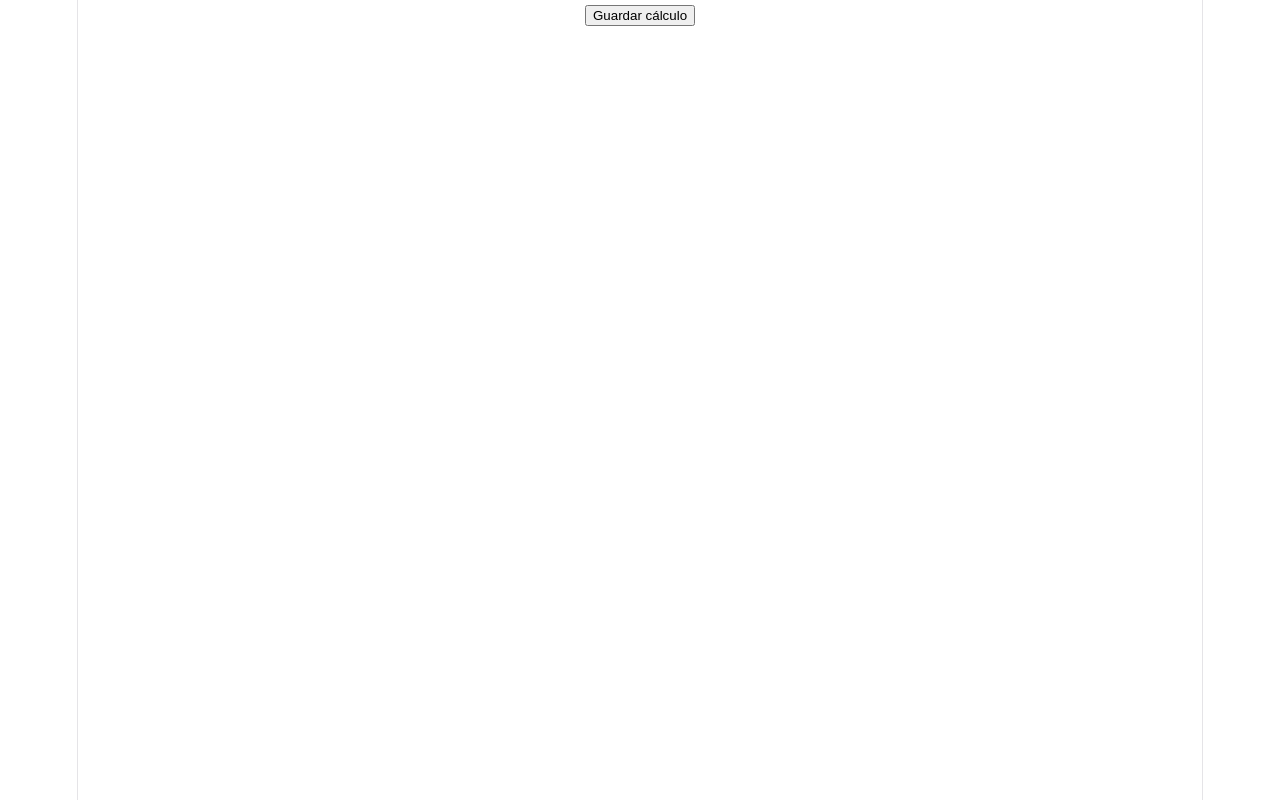
GuardarCalculo › muestra el error y no redirige si falla
This screenshot has width=1280, height=800.
What coordinates should you click on to do the following:
click the button "Guardar cálculo"
I would click on:
 (640, 16)
Its box is [585,5,695,26].
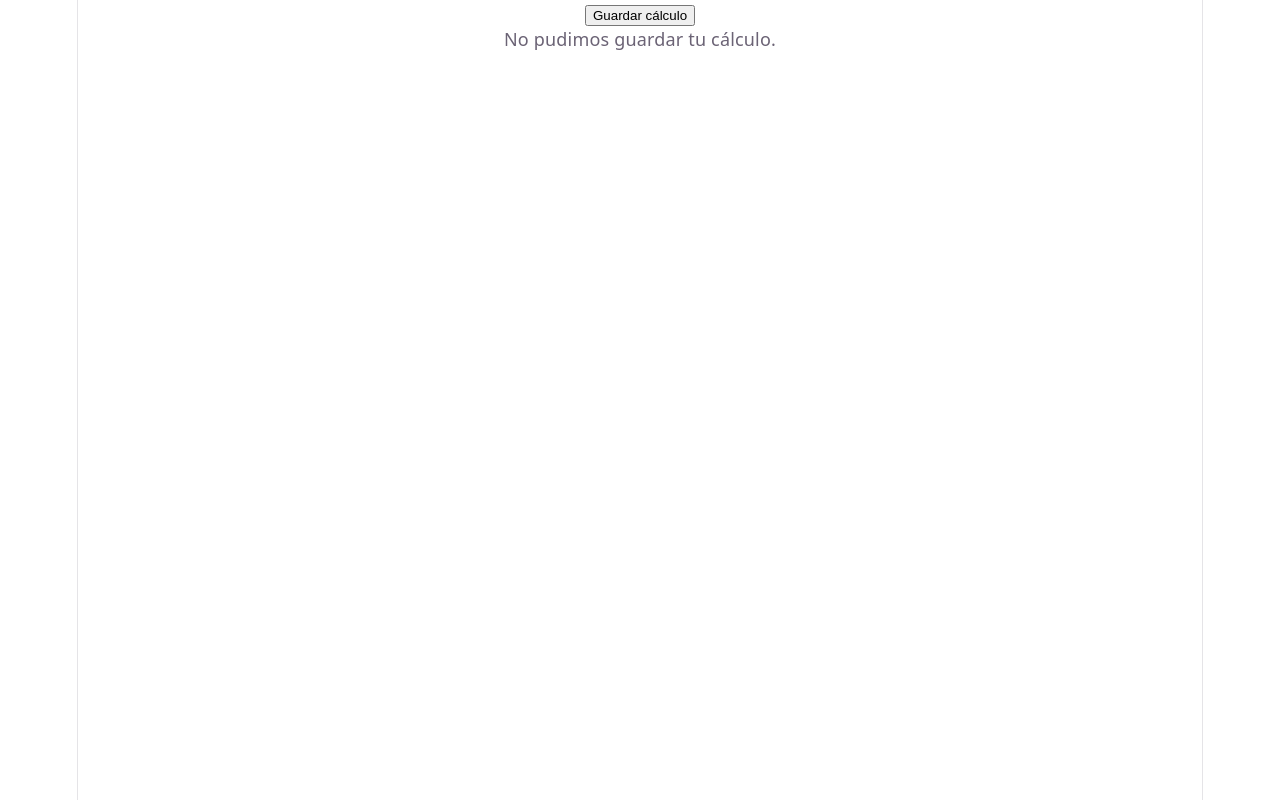
Expected: the message shows "No pudimos guardar", [504,27,776,51]
